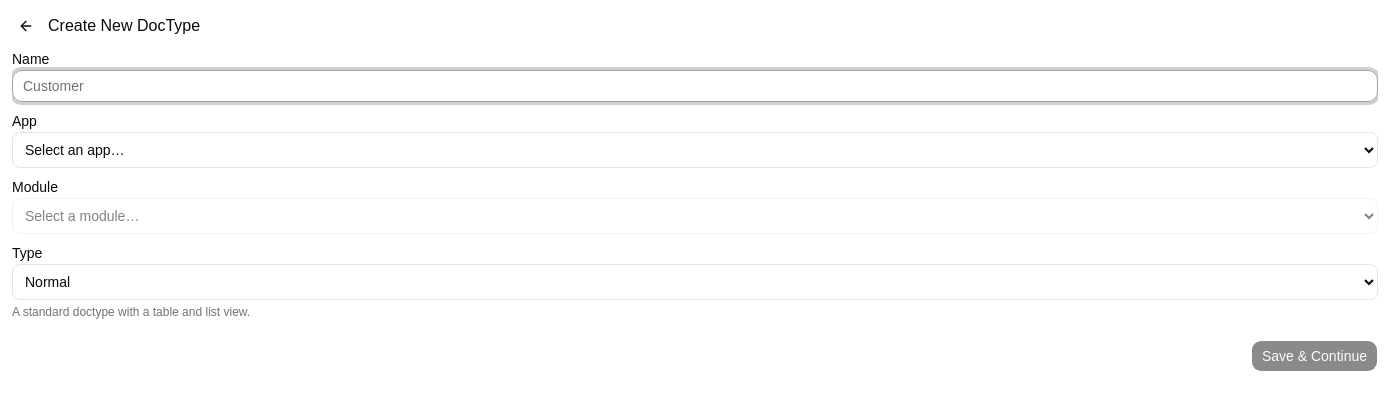
Scenario: CreateDocTypeForm › shows taken indicator when name-availability GET returns 200
Expected: the dropdown labelled "App" is shown, left=12, top=132, right=1378, bottom=168
Type "Existing" into the field labelled "Name" at [695, 86], box left=12, top=70, right=1378, bottom=102
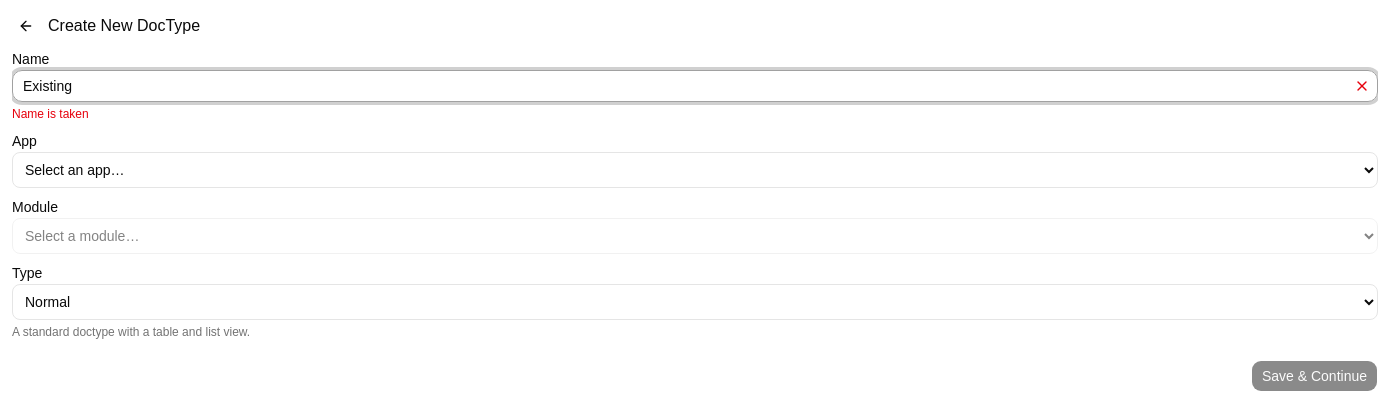
Now the text "Name is taken" is shown, box left=12, top=107, right=89, bottom=121
